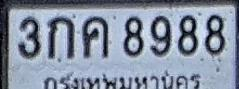3: (18, 16, 40, 58)
8: (123, 15, 143, 56), (178, 14, 198, 55), (204, 14, 224, 55)
9: (150, 15, 171, 56)
A01: (47, 16, 74, 59)
A04: (82, 16, 109, 58)
BKK: (40, 72, 208, 89)
